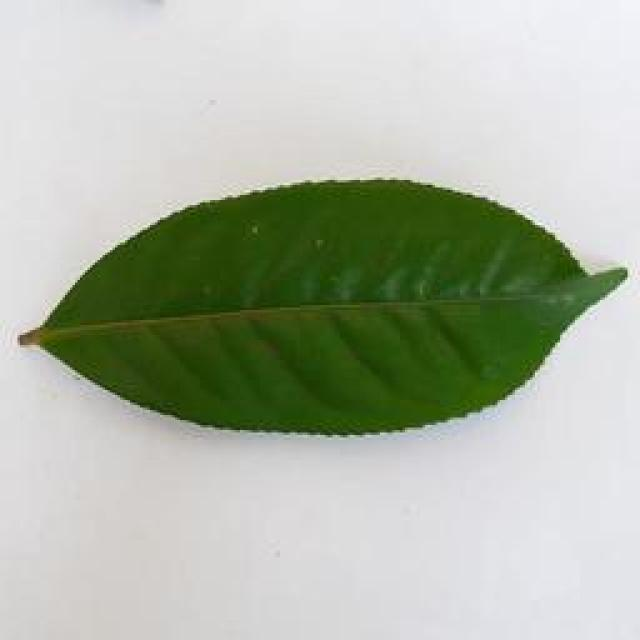Healthy: (10, 174, 636, 442)
